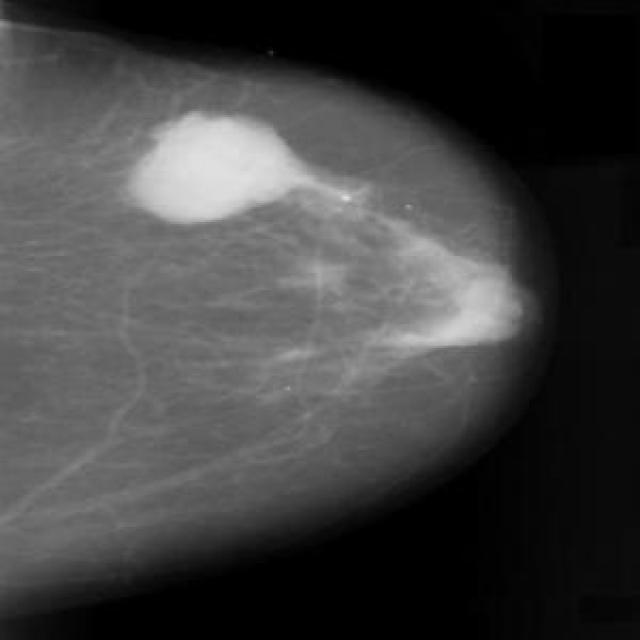tumor: (127, 97, 317, 234), (426, 244, 530, 355)
